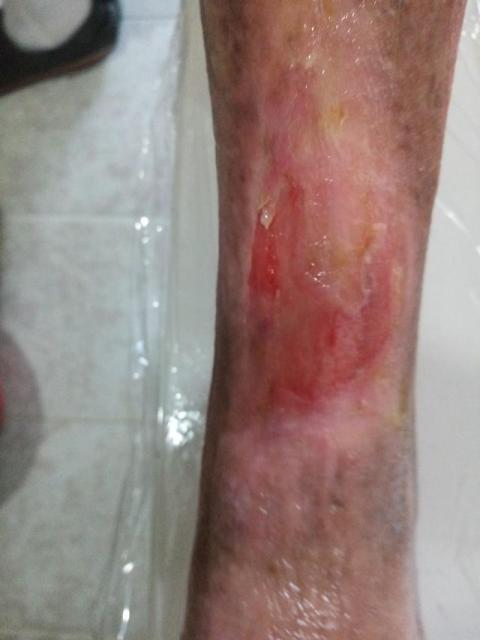wound: (208, 174, 403, 443)
